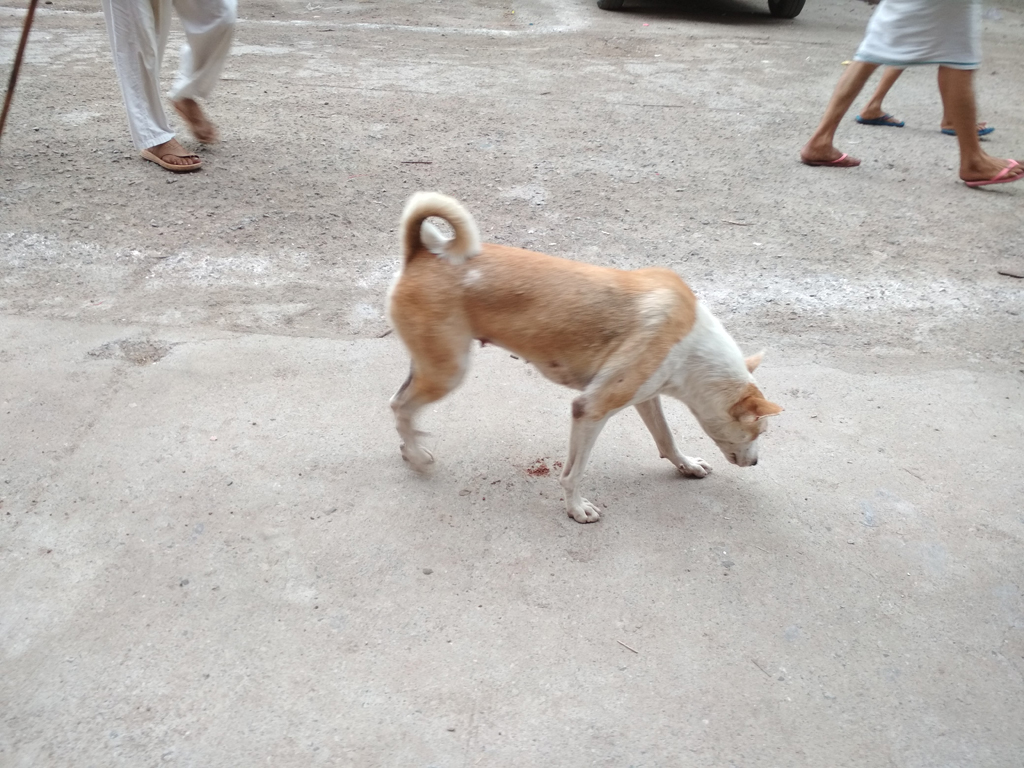dog: (381, 193, 786, 522)
